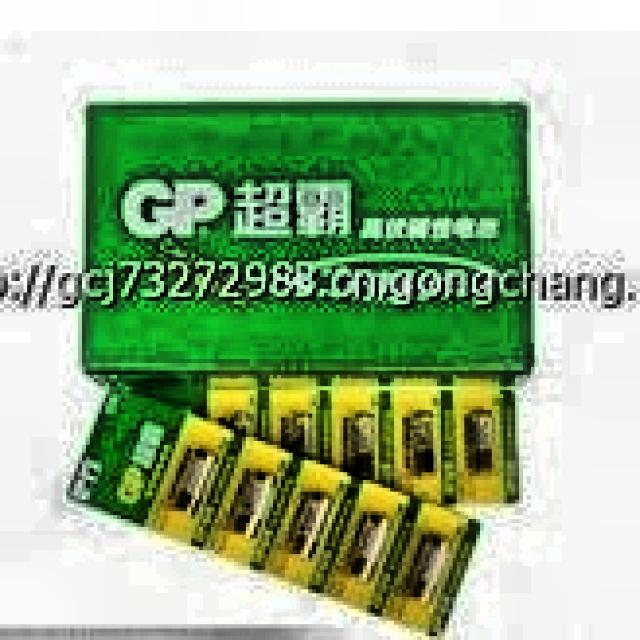Non-Valuable Waste - Batteries: (151, 418, 474, 633)
